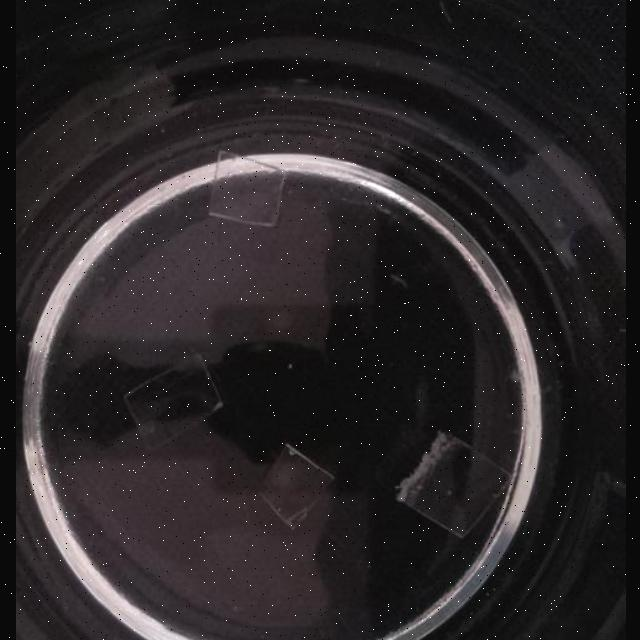Film: (397, 428, 508, 540), (121, 348, 221, 456), (257, 441, 335, 532), (205, 148, 288, 230)
